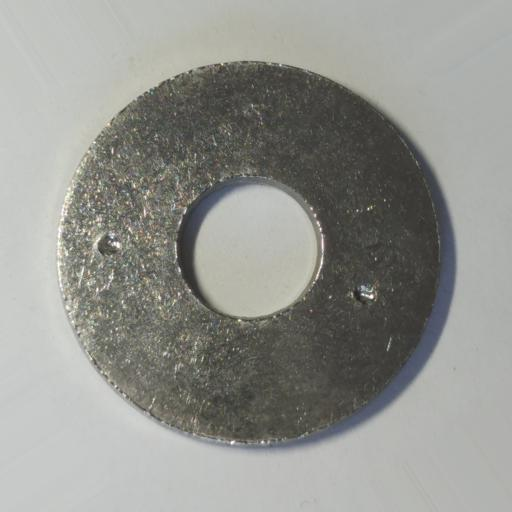circular_cavity: (95, 232, 124, 257), (353, 285, 377, 306)
